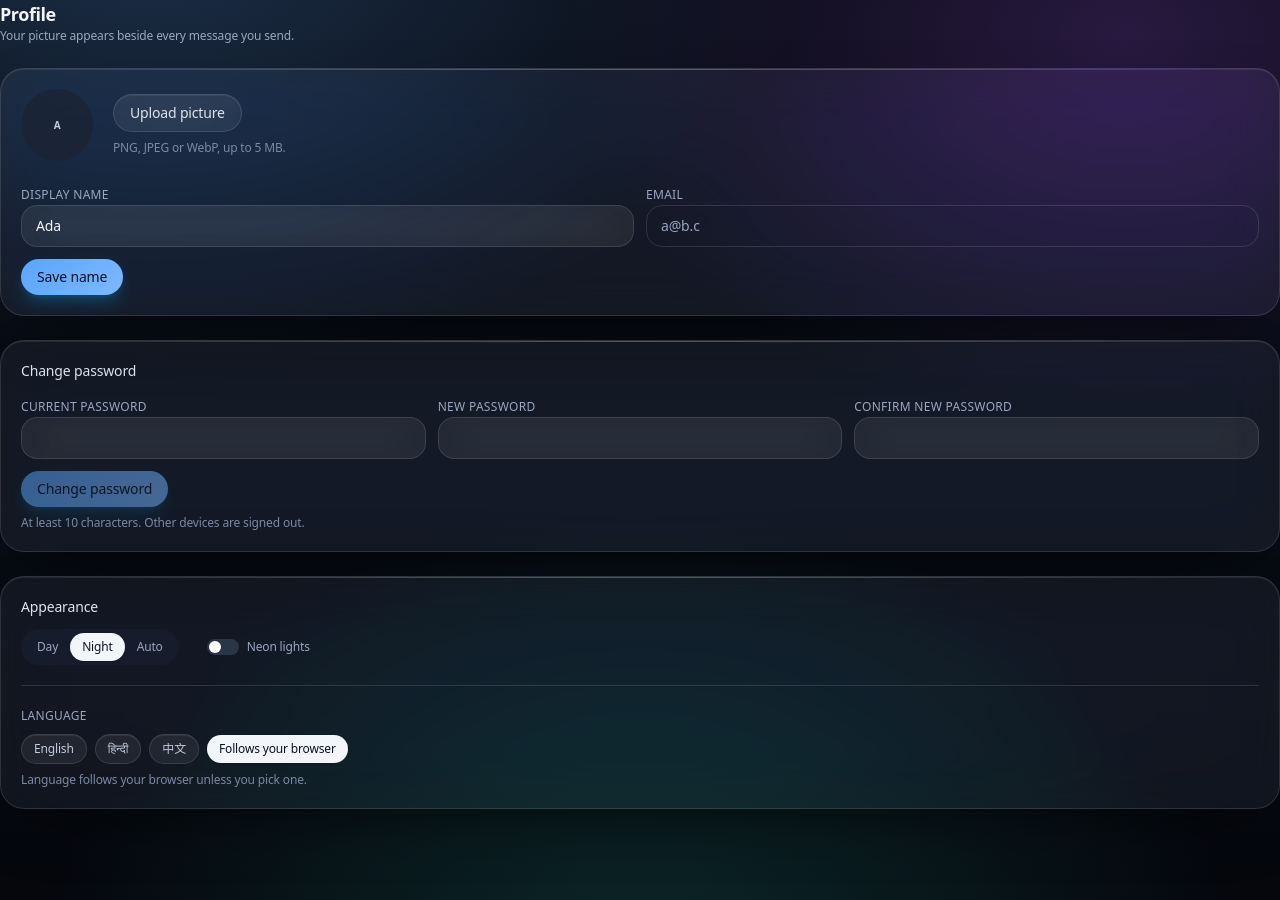
Test: Profile — password › changes the password and reports the ejected sessions
Type "old-password-1" into the password field labelled "Current password" at x=223, y=438, box left=21, top=417, right=426, bottom=459
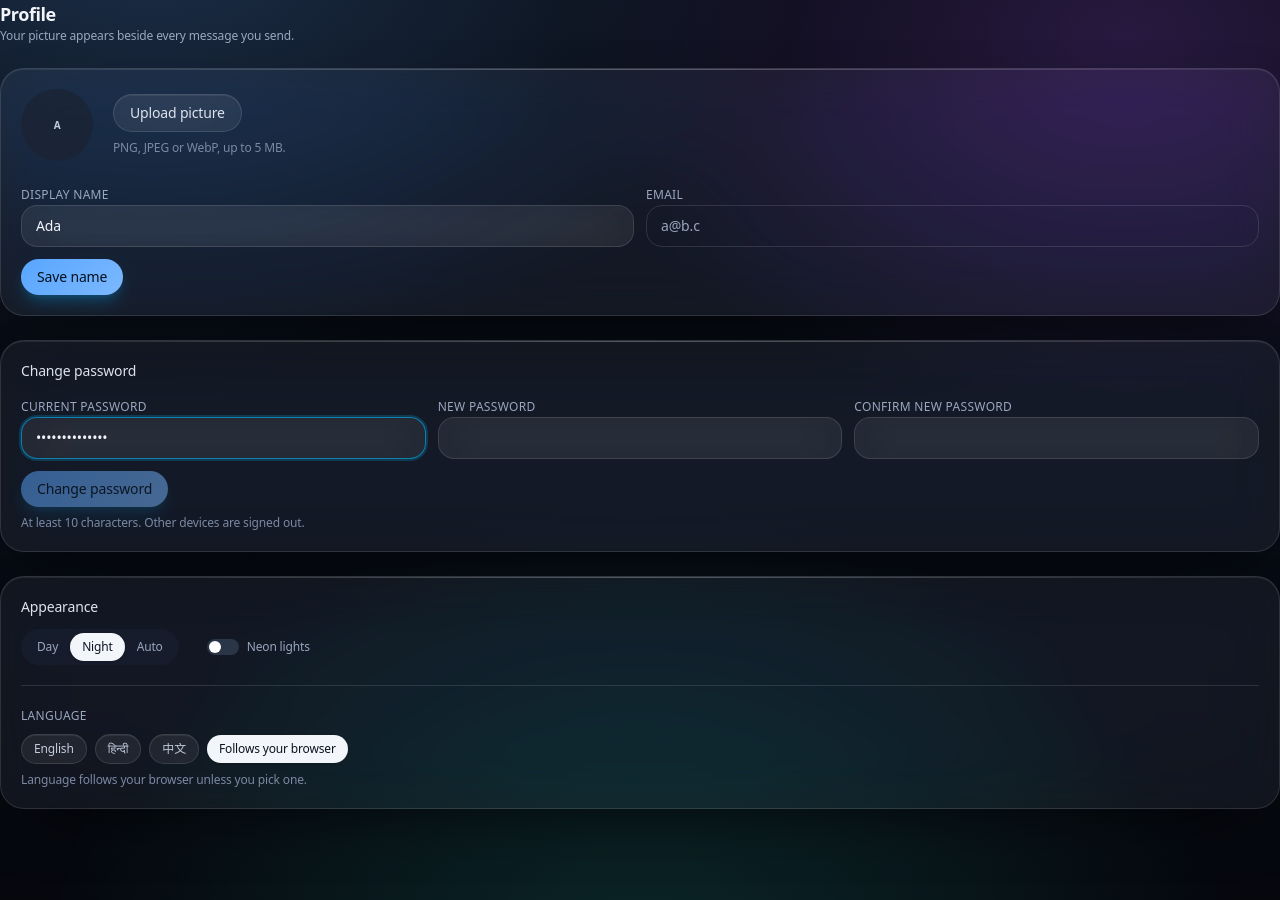
Type "brand-new-password" into the password field labelled "New password" at x=640, y=438, box left=438, top=417, right=842, bottom=459
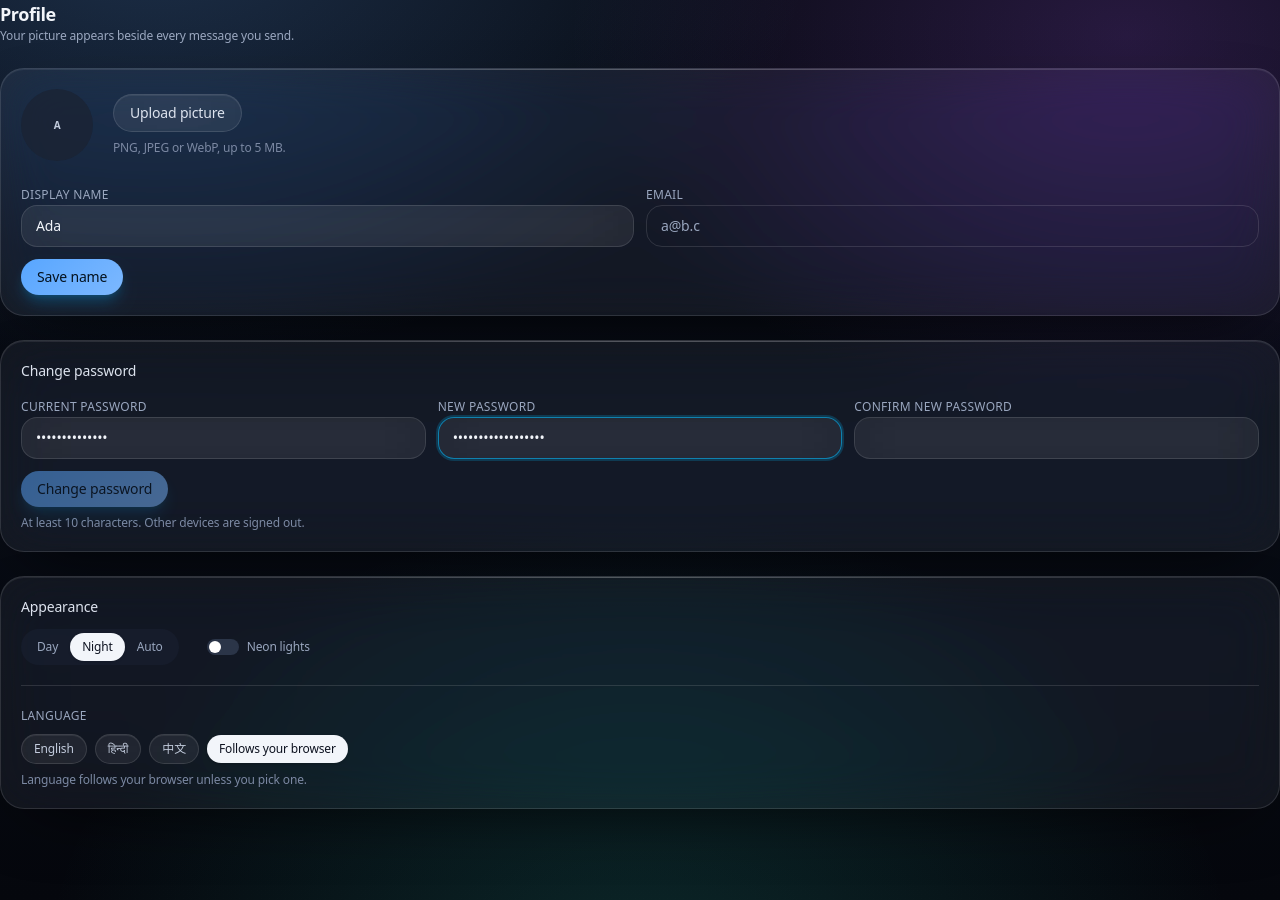
Type "brand-new-password" into the password field labelled "Confirm new password" at x=1057, y=438, box left=854, top=417, right=1259, bottom=459
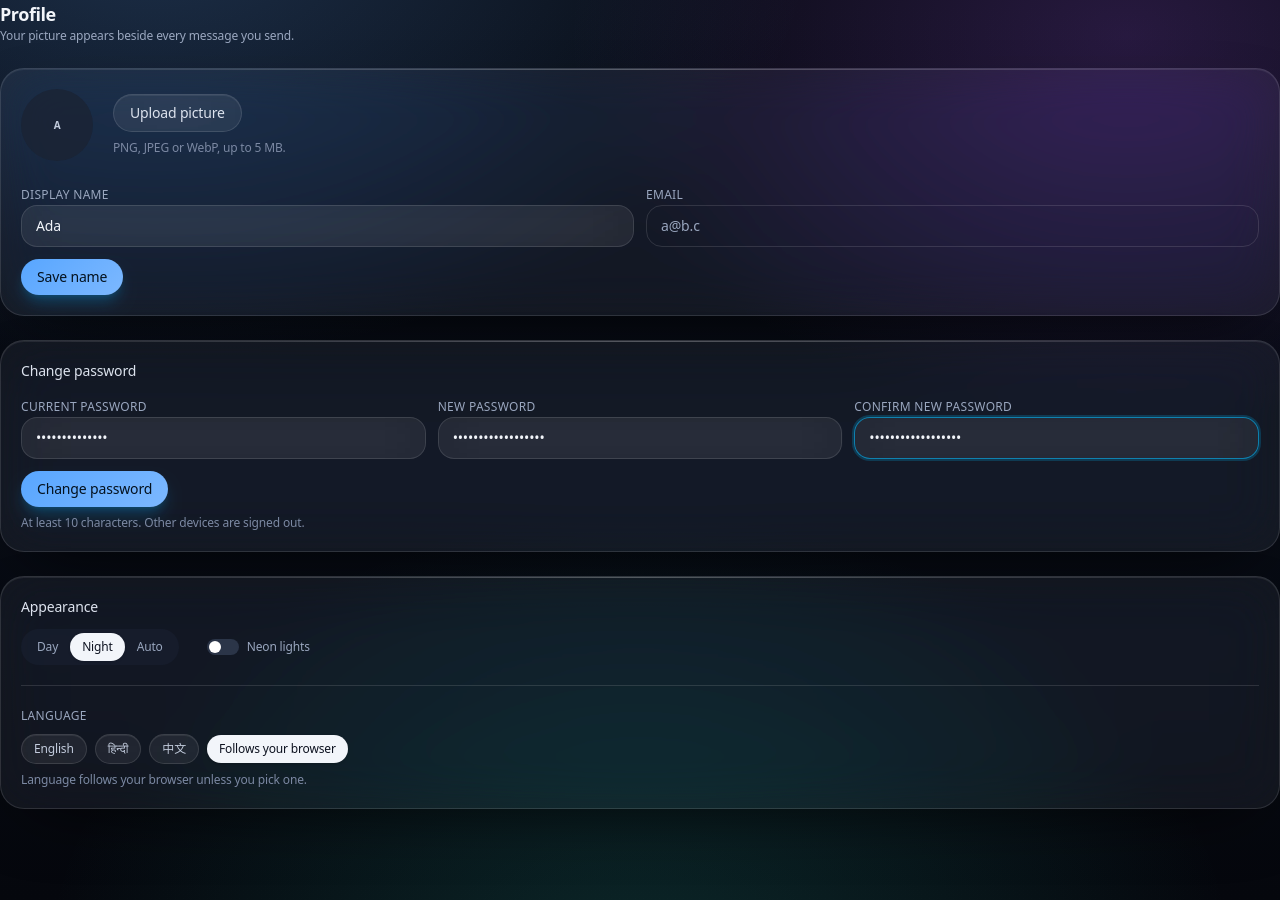
Click the button "Change password" at x=95, y=489, box left=21, top=471, right=168, bottom=507
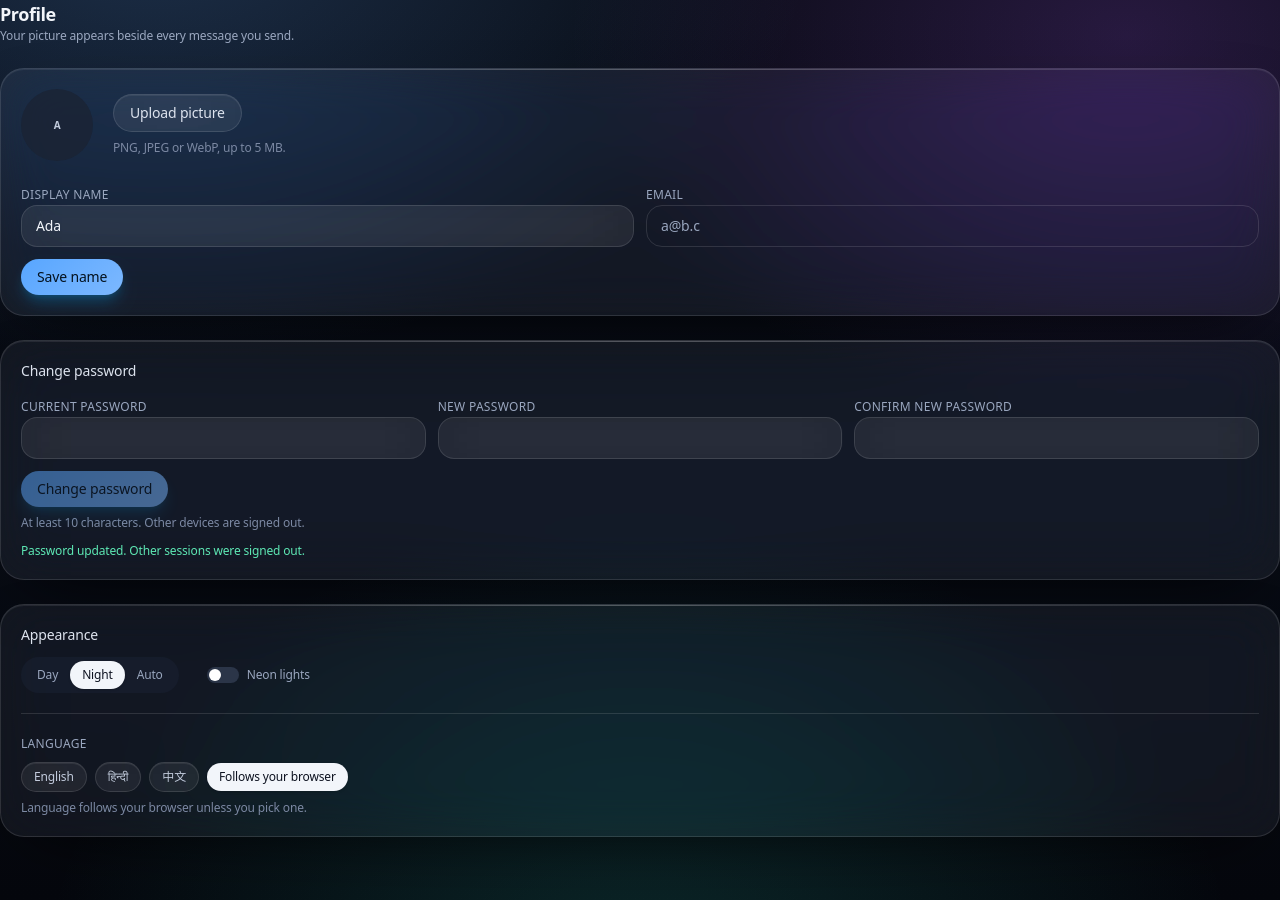
Result: the text "Password updated. Other sessions were signed out." is shown at left=21, top=542, right=305, bottom=559
Result: the password field labelled "Current password" is empty at left=21, top=417, right=426, bottom=459
